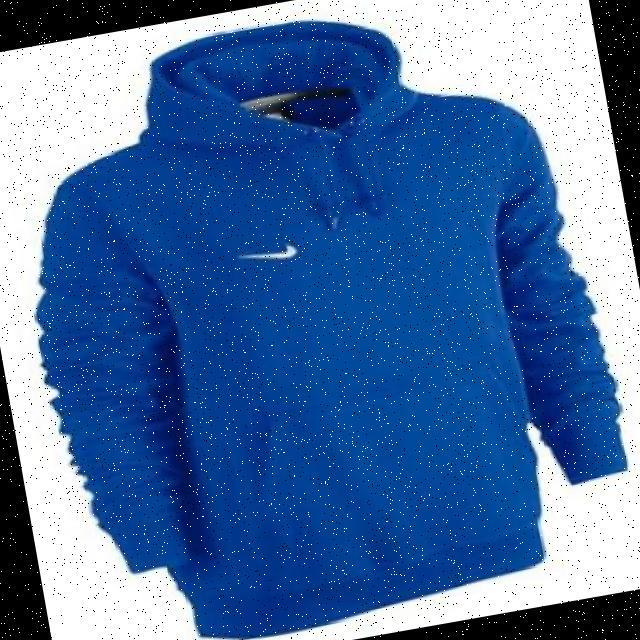Nike: (239, 239, 299, 263)
